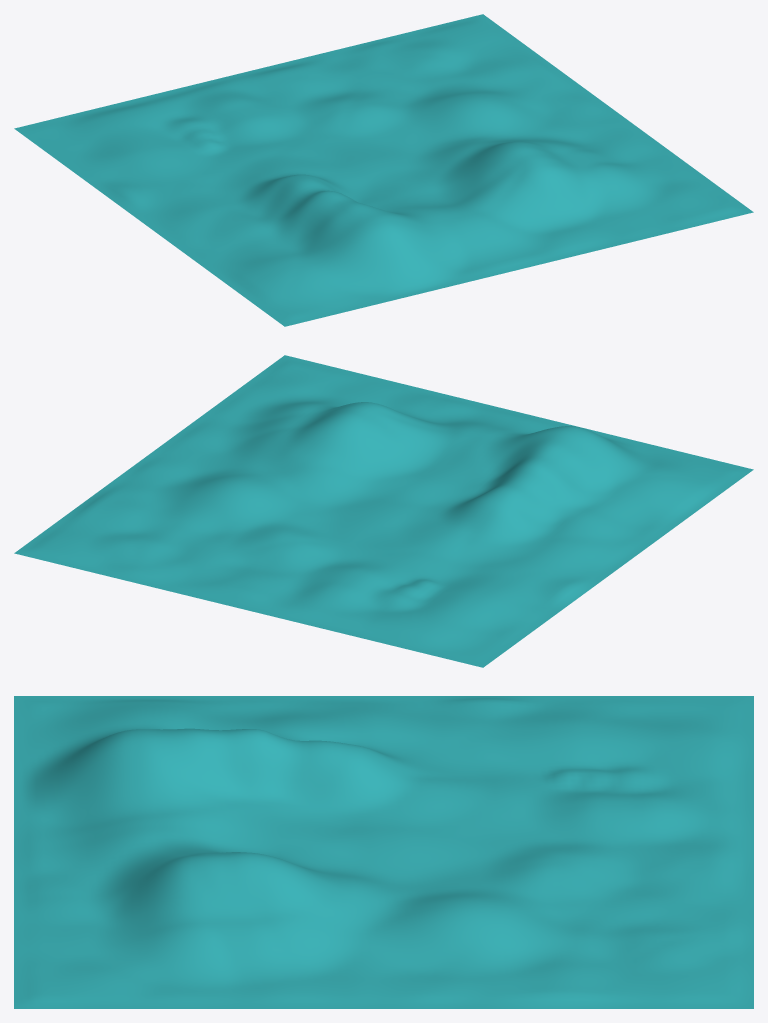
The model's file is SM_Sea.fbx.
3 views of the same model, one above another, from view 1: azimuth 30°, elevation 25°; view 2: azimuth 150°, elevation 25°; view 3: azimuth 270°, elevation 25° (orthographic). The views are drawn at different scales.
Visible parts, largest first — view 1: pPlane10; view 2: pPlane10; view 3: pPlane10.
Part boxes in pixels (bbox=[...]): pPlane10: bbox=[14, 14, 753, 326]; pPlane10: bbox=[14, 355, 753, 667]; pPlane10: bbox=[14, 696, 753, 1008].
Size of the model in its own units: 106166 by 8468 by 106166.
Materials: 1 (1 with a texture image).
